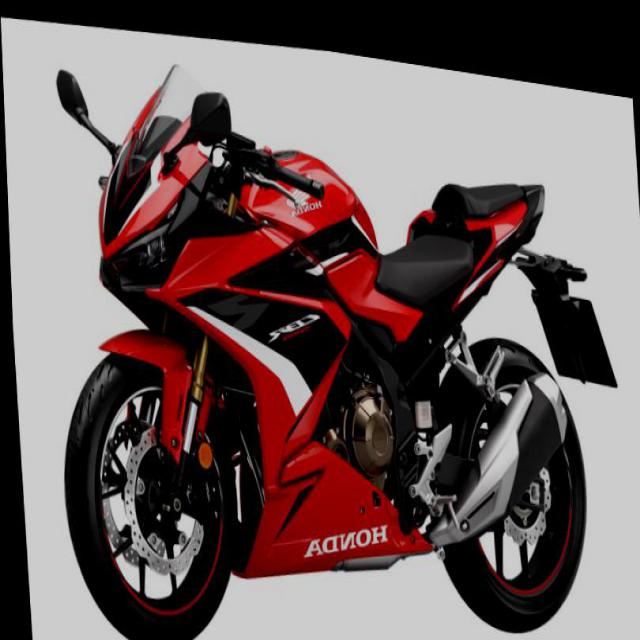CBR500R: (34, 13, 597, 639)
